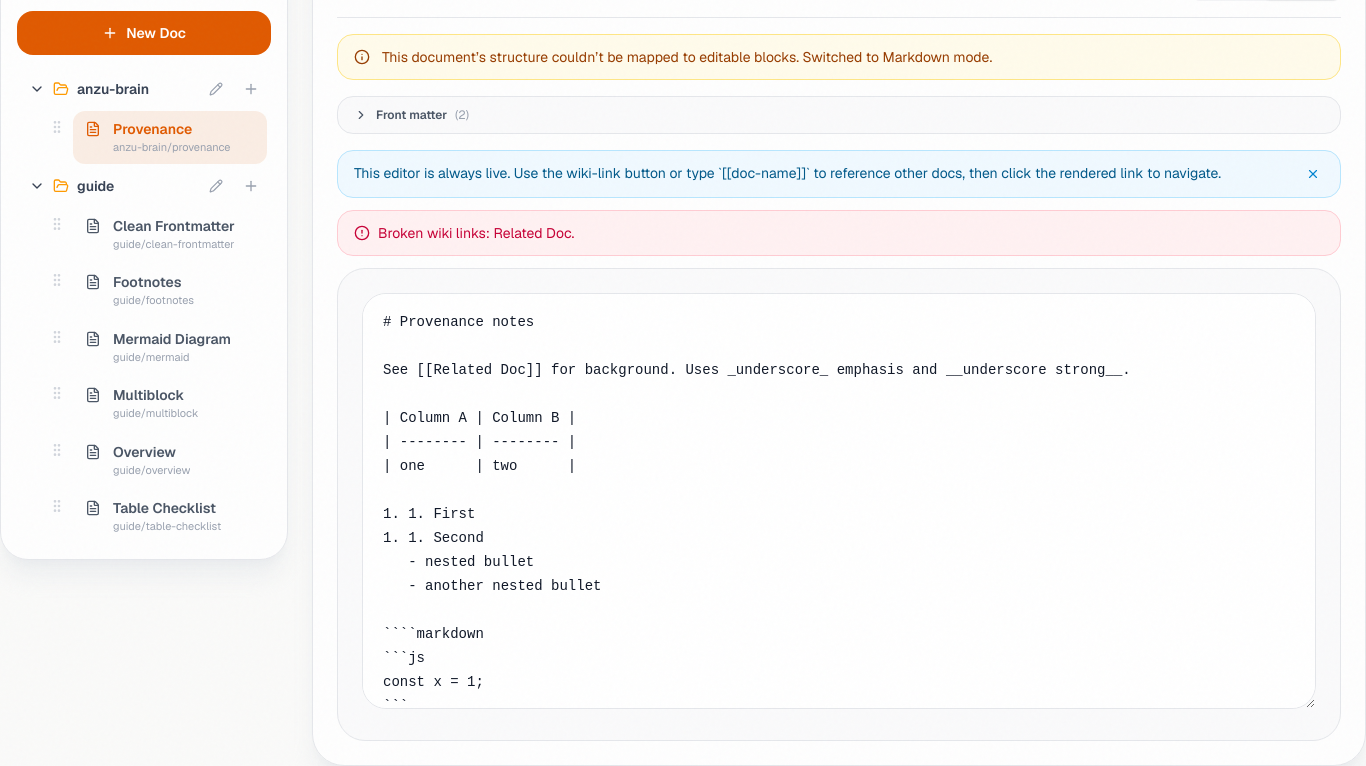
Test: DocsScreen external doc update state machine (FLUX-1671) › Save refuses to write an empty buffer over a non-empty on-disk doc
The width and height of the screenshot is (1366, 766).
(page scrolled)
Check: the text "Provenance" is shown, box [113,120,192,138]
Clear the text box with class "docs-editor-content" at (839, 500), box [362,292,1316,708]
(page scrolled)
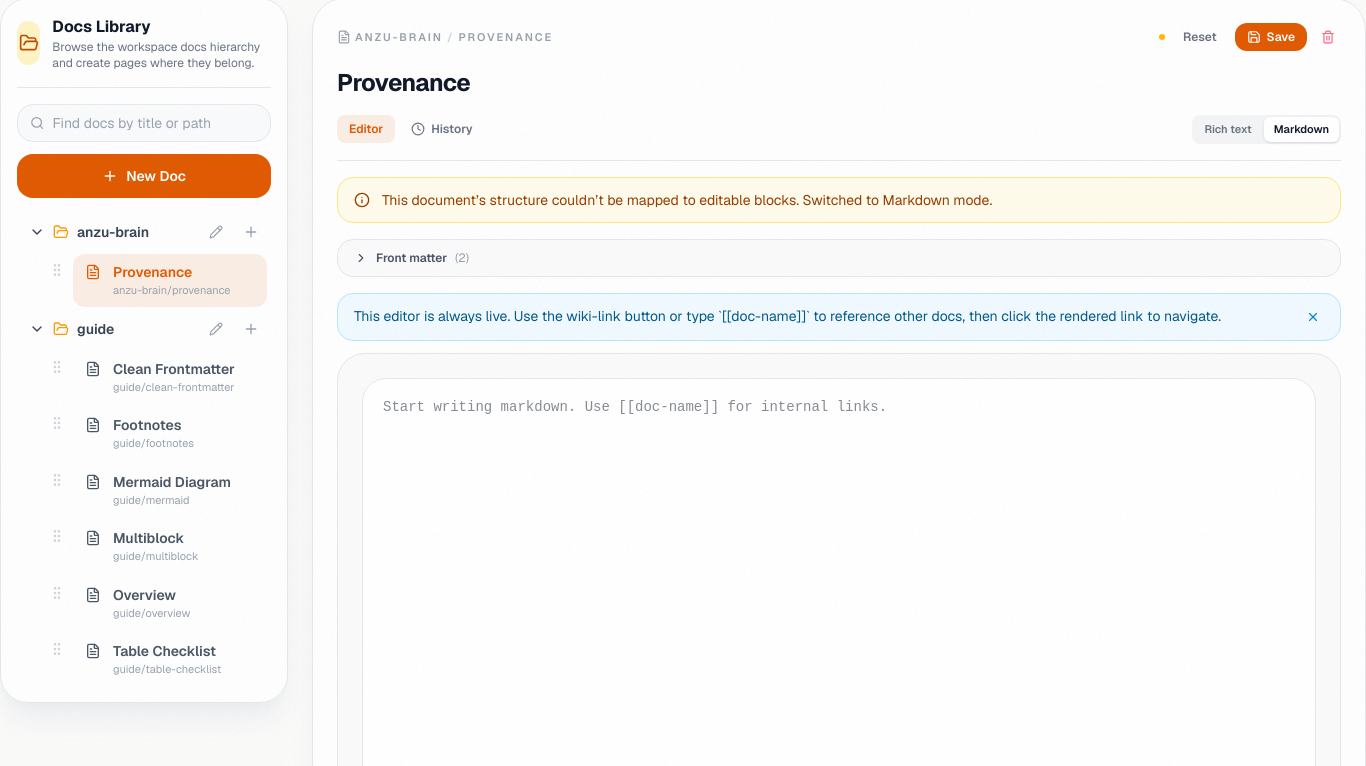
Check: the button "Save" is enabled
Click the button "Save" at (1271, 37), box [1234,23,1307,51]
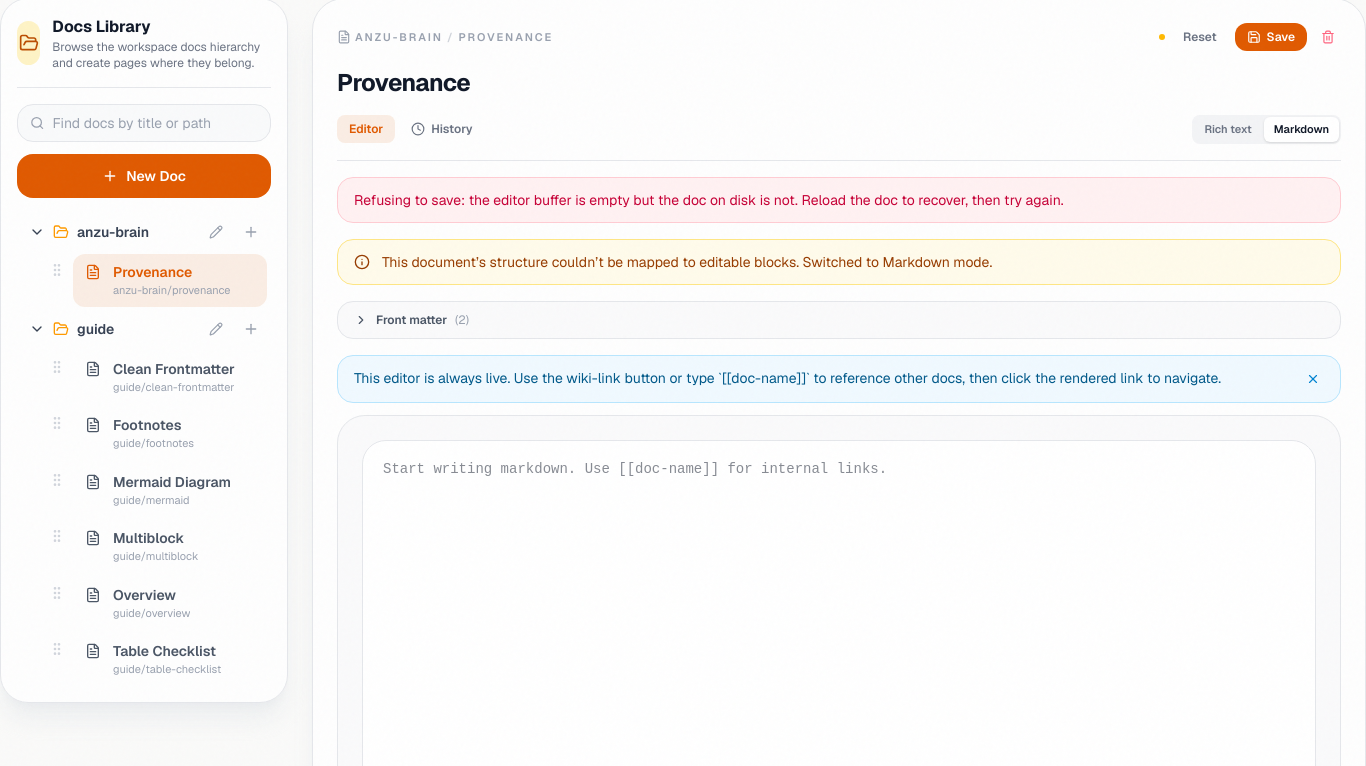
Check: the text "Refusing to save" is shown, box [354,190,1064,208]
